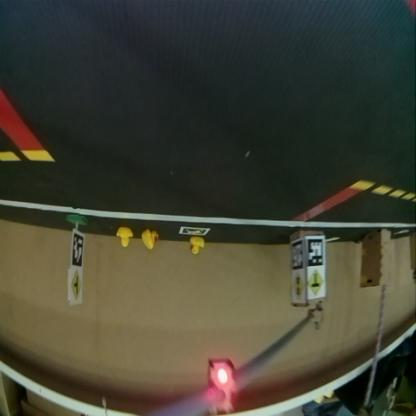Duckie: (141, 230, 158, 250), (116, 228, 132, 248), (189, 239, 204, 255)
Intersection sign: (70, 271, 82, 302), (308, 272, 322, 296)
QR code: (306, 240, 323, 268), (70, 234, 82, 268), (290, 240, 302, 270), (179, 228, 209, 236)
Signal sign: (290, 273, 304, 301)
Traffic light: (208, 361, 234, 412)
